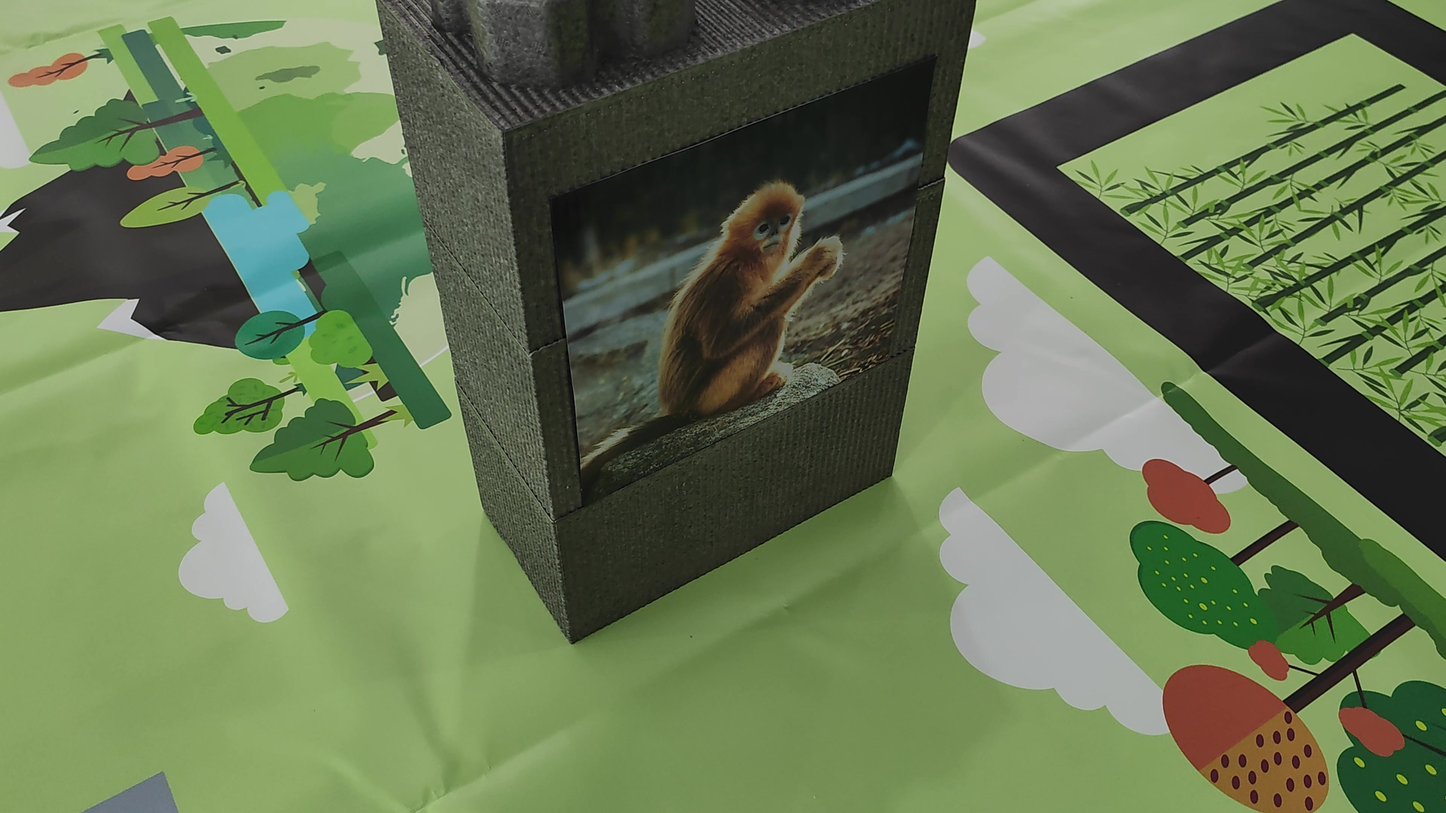monkey: (594, 160, 903, 451)
